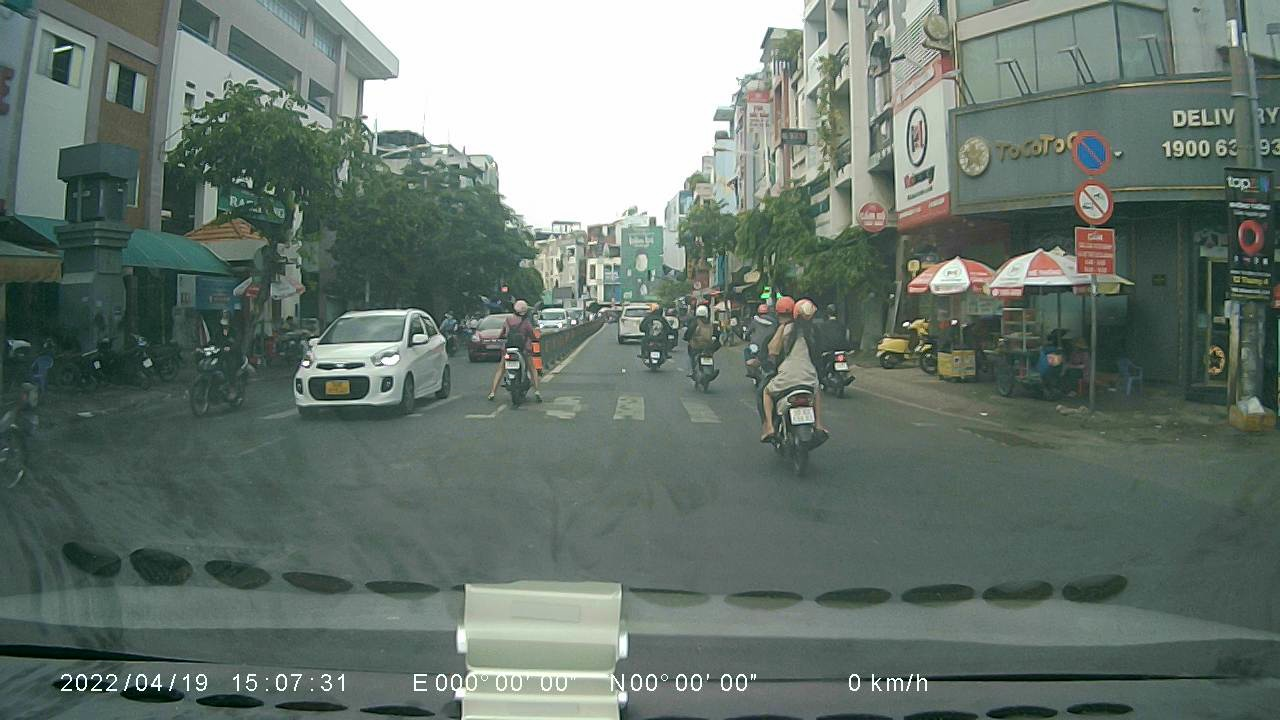Bien khac: (1071, 177, 1116, 227)
Cam do xe: (1072, 127, 1112, 174)
